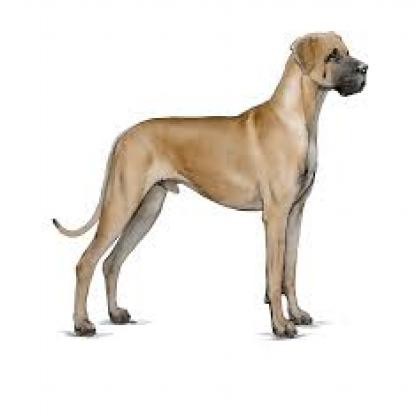Great Dane: (46, 24, 374, 348)
